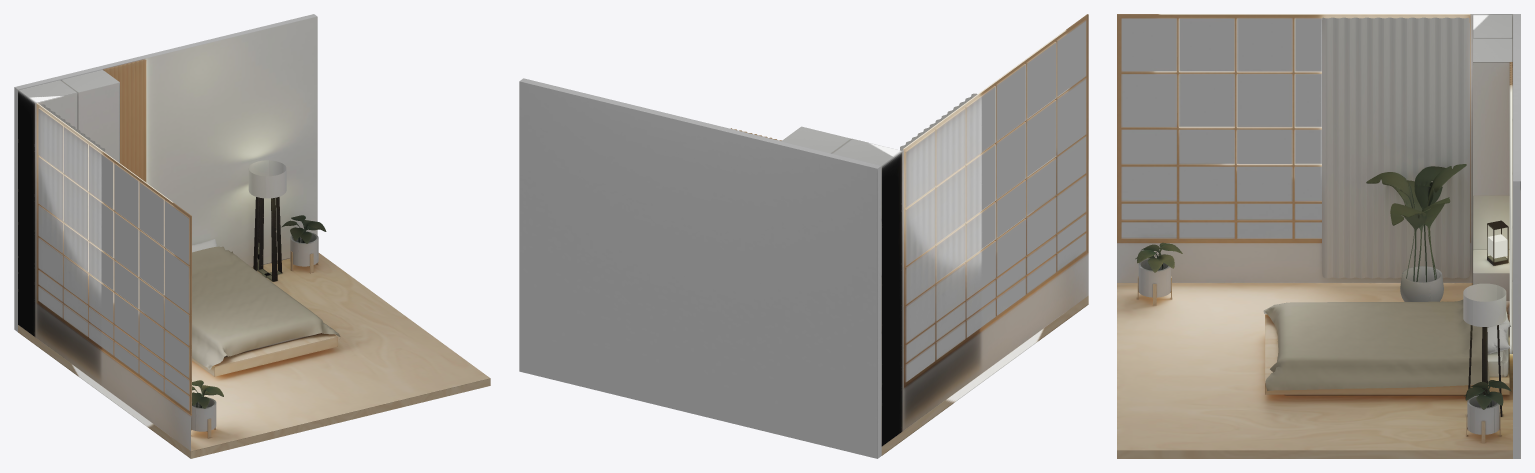
File: works.glb
3 renders of one model, left to right at view 1: azimuth 30°, elevation 25°; view 2: azimuth 150°, elevation 25°; view 3: azimuth 270°, elevation 25°, orthographic. The views are drawn at different scales.
Visible parts, largest first — view 1: Wall, Base, Floor, Plane.011, Cube.002, Cube.004, BaseBig, Cube, Cylinder, Cube.005, Cylinder.002, Cube.006 (+1 smaller); view 2: Base, Wall, Floor, Cube.002, Cube; view 3: Wall, Floor, Plane.001, Plane.011, Cube.002, Base, Cube, BaseBig, Cylinder, Sphere, Cube.004, Cube.001 (+12 smaller).
Part boxes in pixels (x1,y1,x2,y2): Wall: [18, 90, 191, 450]; Base: [14, 14, 317, 331]; Floor: [18, 253, 490, 458]; Plane.011: [192, 246, 340, 370]; Cube.002: [61, 69, 119, 162]; Cube.004: [103, 59, 146, 182]; BaseBig: [192, 333, 337, 376]; Cube: [19, 80, 77, 129]; Cylinder: [248, 160, 286, 198]; Cube.005: [257, 197, 277, 281]; Cylinder.002: [290, 232, 318, 266]; Cube.006: [253, 197, 282, 277]; Base: [519, 78, 881, 458]; Wall: [881, 14, 1088, 446]; Floor: [881, 296, 1088, 455]; Cube.002: [781, 126, 851, 153]; Cube: [832, 138, 901, 165]; Wall: [1117, 14, 1512, 282]; Floor: [1117, 283, 1512, 458]; Plane.001: [1322, 17, 1469, 278]; Plane.011: [1263, 299, 1489, 390]; Cube.002: [1473, 38, 1512, 195]; Base: [1513, 14, 1520, 458]; Cube: [1473, 14, 1512, 249]; BaseBig: [1265, 314, 1509, 394]; Cylinder: [1463, 283, 1506, 326]; Sphere: [1400, 266, 1443, 301]; Cube.004: [1509, 62, 1512, 353]; Cube.001: [1473, 250, 1509, 314].
Size of the model in its own units: 4 by 3.1 by 4.08.
Materials: 1 (1 with a texture image).
